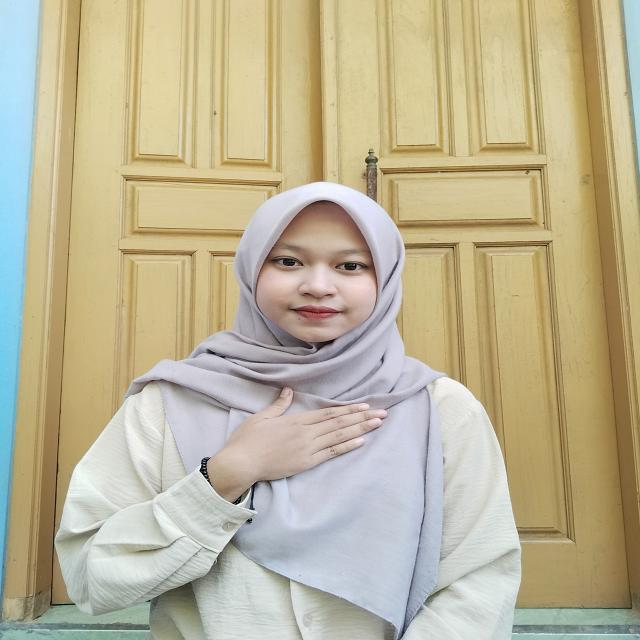tolong: (174, 379, 393, 515)
